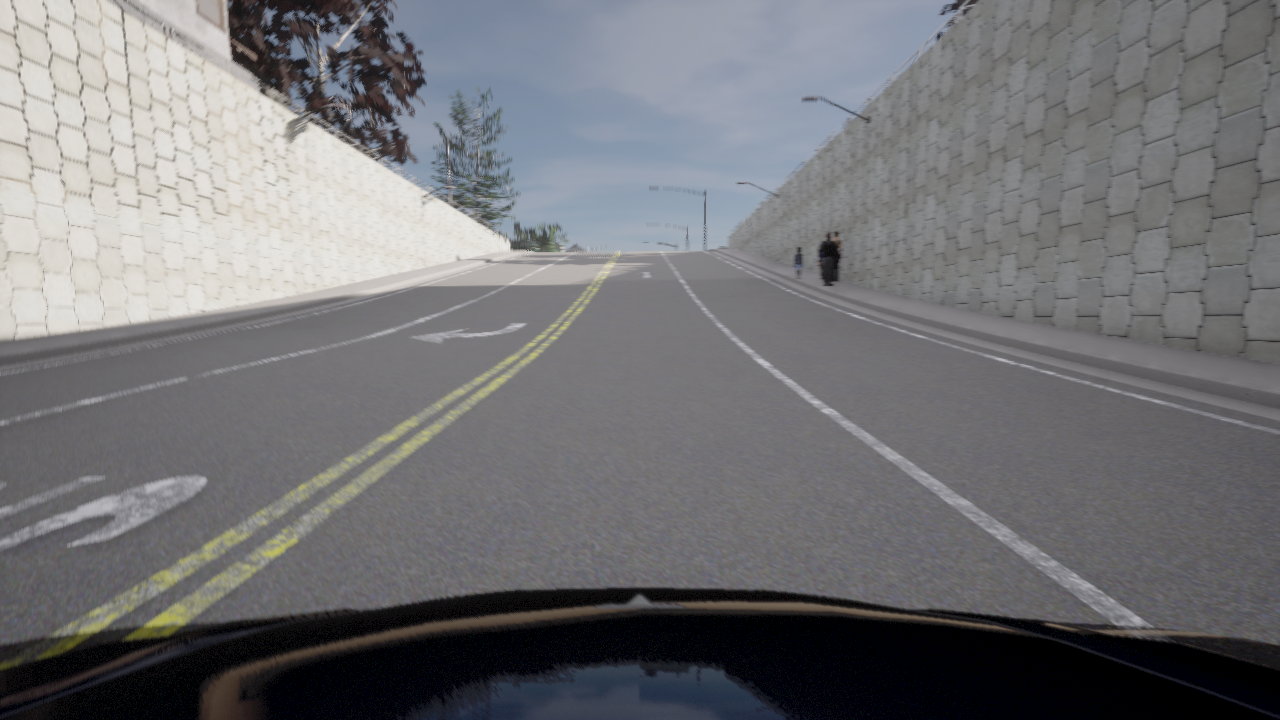cyclist: (0, 588, 1279, 719), (507, 239, 538, 252)
pedestrian: (818, 233, 837, 285), (831, 231, 842, 281), (793, 249, 802, 278), (820, 261, 822, 278)
